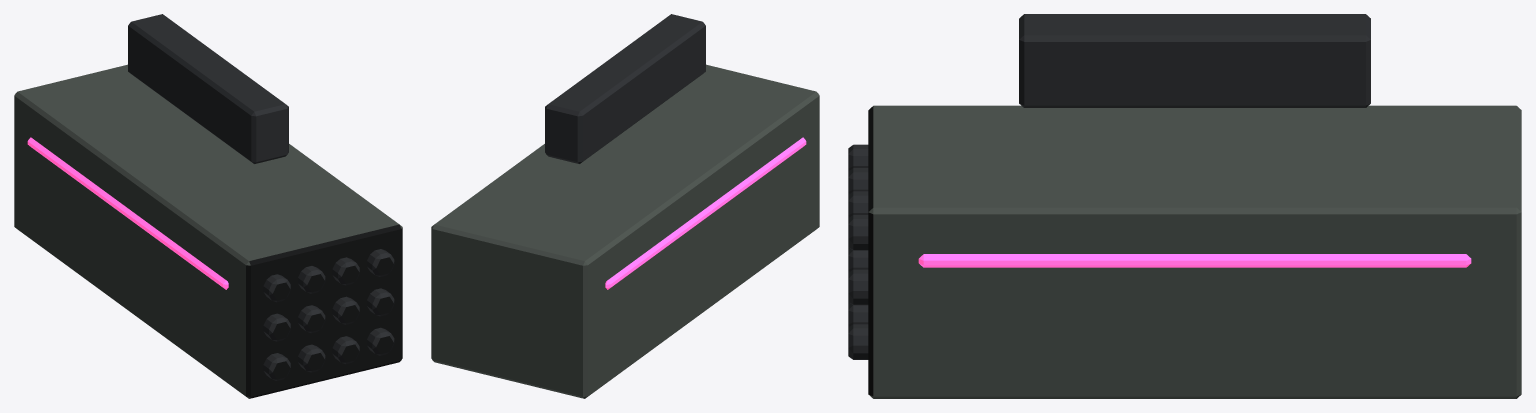
File: Pod_Swarm.fbx
The picture shows the model from 3 angles, left to right: view 1: azimuth 30°, elevation 25°; view 2: azimuth 150°, elevation 25°; view 3: azimuth 270°, elevation 25°; orthographic projection. The views are drawn at different scales.
Parts seen in each view (by area): view 1: Pod_Swarm; view 2: Pod_Swarm; view 3: Pod_Swarm.
Boxes of the visible parts, bbox=[...] form: Pod_Swarm: bbox=[14, 14, 402, 398]; Pod_Swarm: bbox=[431, 14, 819, 398]; Pod_Swarm: bbox=[848, 14, 1521, 398].
Bounding box in the file's own units: 0.53 × 0.71 × 1.34.
